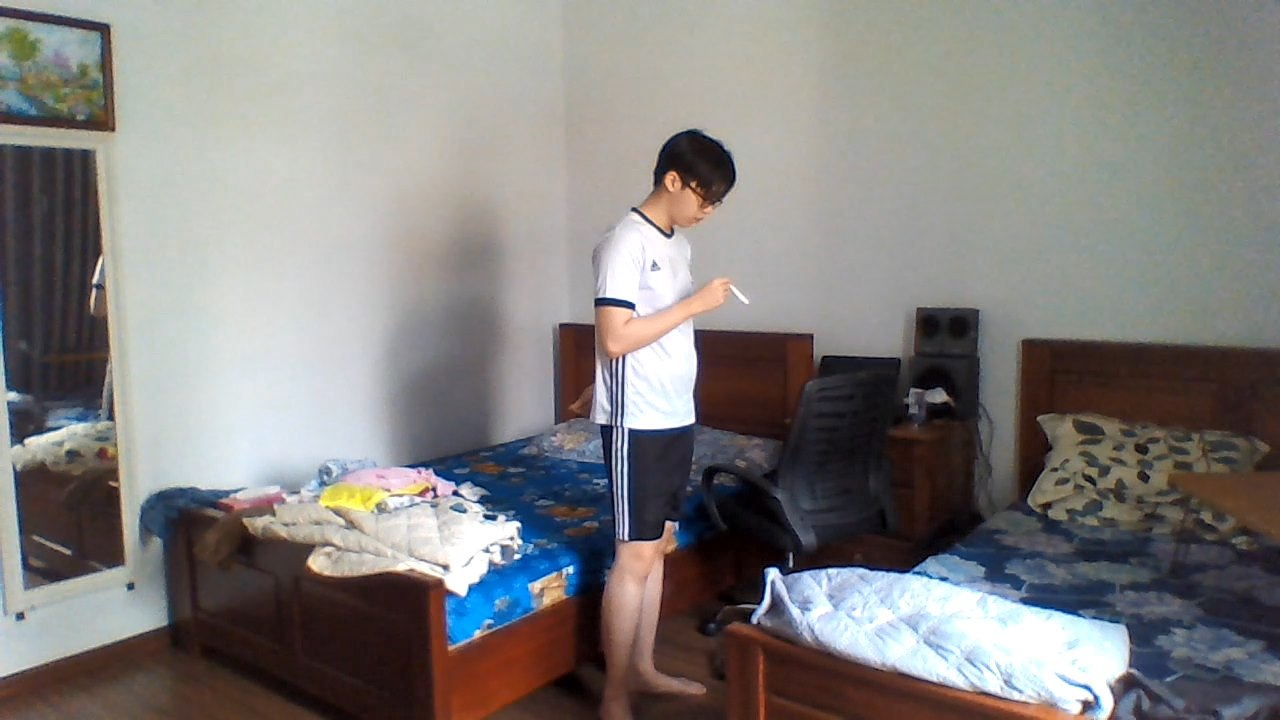cigarette: (729, 283, 750, 308)
person: (571, 121, 742, 717)
